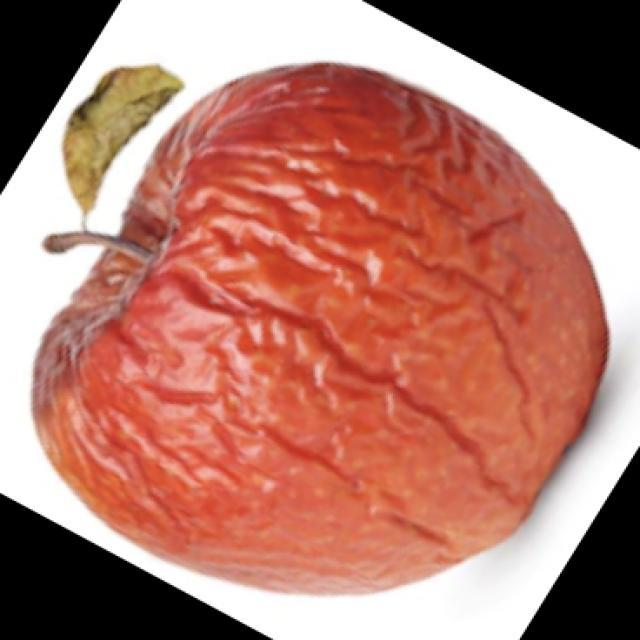Rotten: (27, 57, 605, 595)
